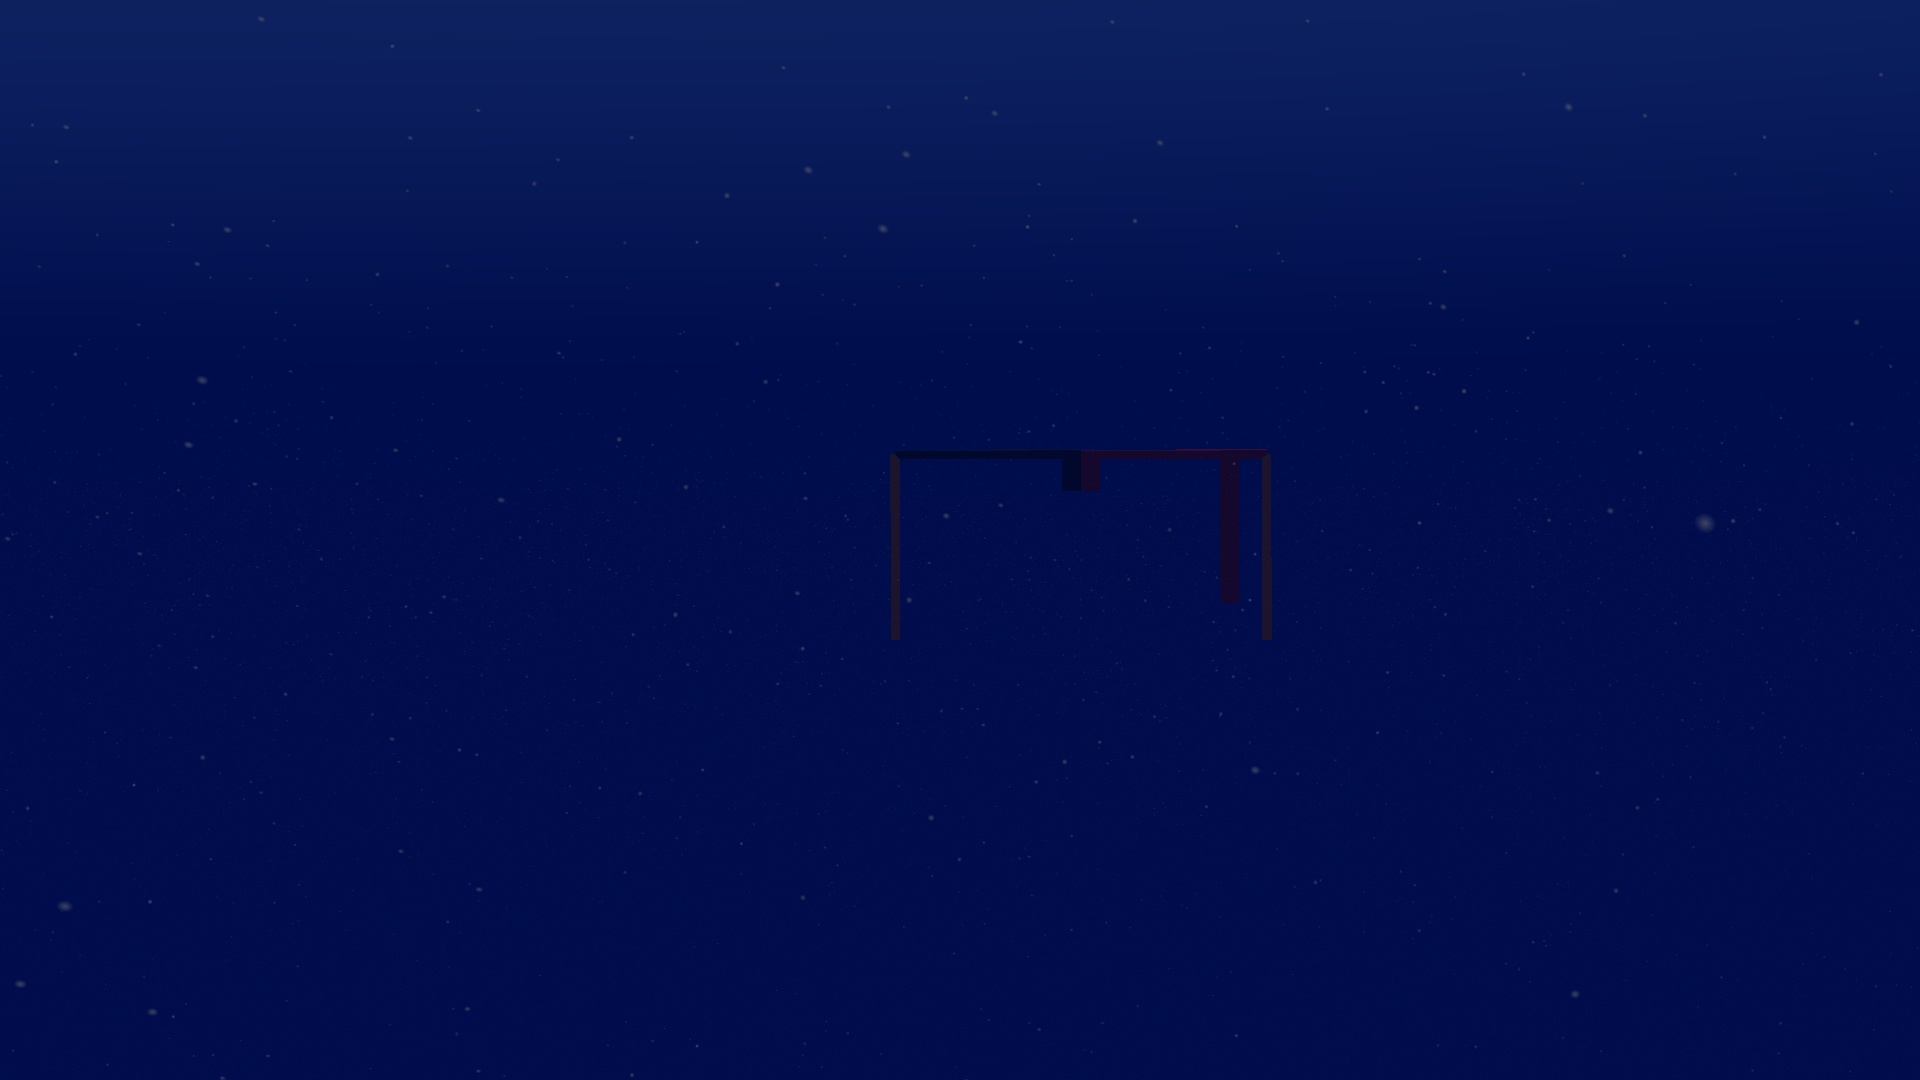Gate: (880, 442, 1279, 654)
